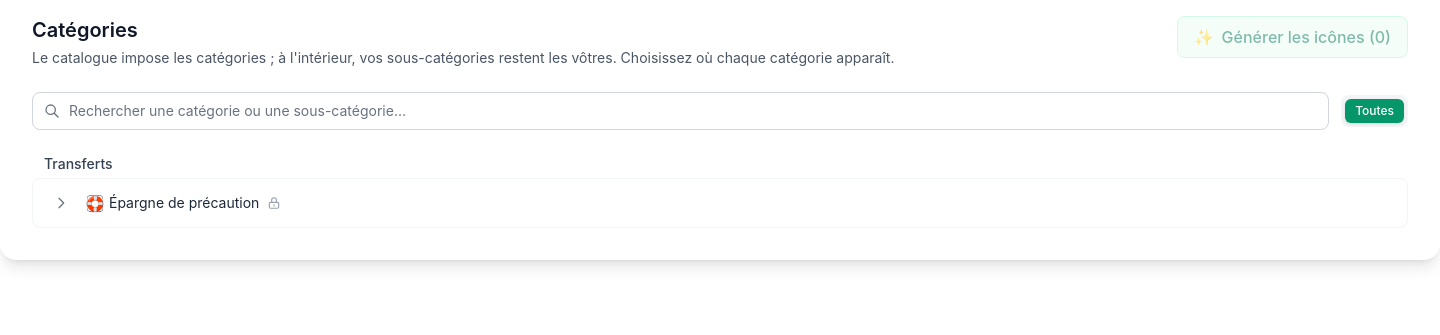
Test: CategoriesSettingsPage › offers no subcategory under a transfer category
Click the button named "Déplier Épargne de précaution".
click(61, 203)  # box [45,187,77,219]
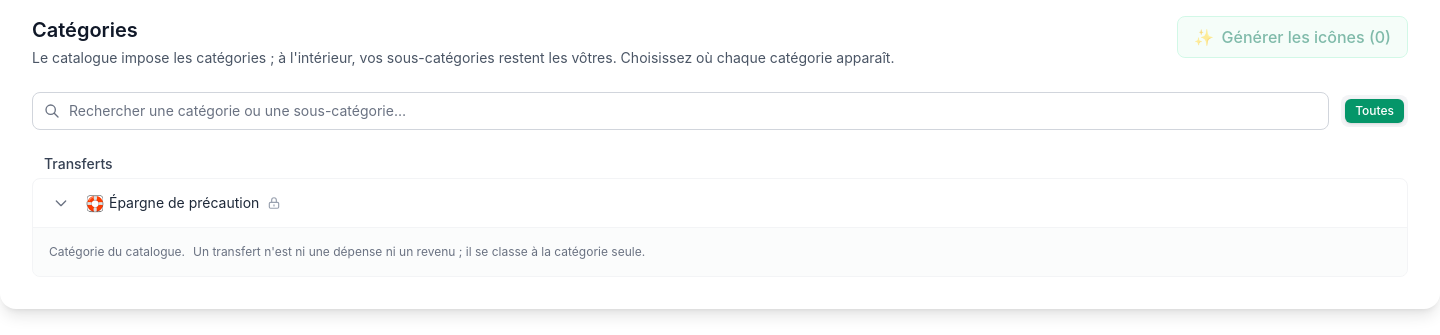
Expected: the list item with test id "category-row" shows "transfert", [193,244,645,259]
